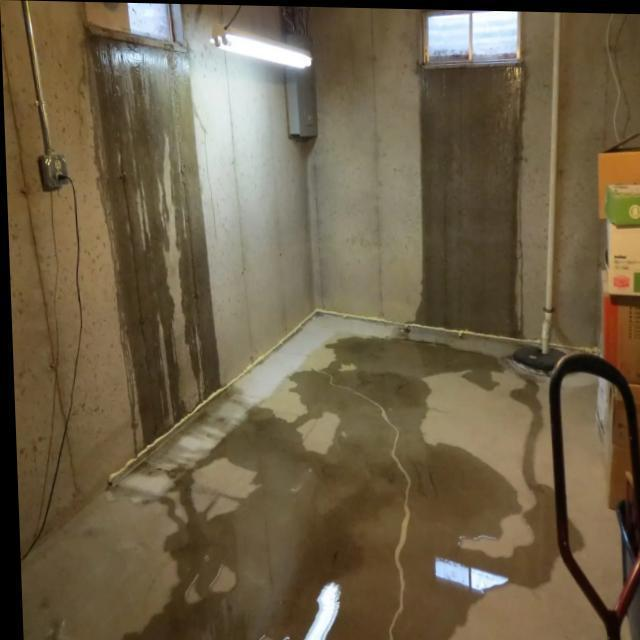water accumulation: (152, 332, 579, 640), (76, 36, 238, 437), (416, 72, 532, 336)
